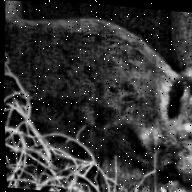boar: (2, 5, 192, 186)
